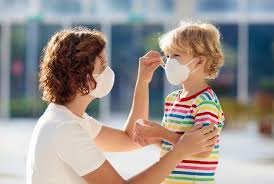with-mask: (50, 30, 115, 110), (156, 28, 221, 90)
